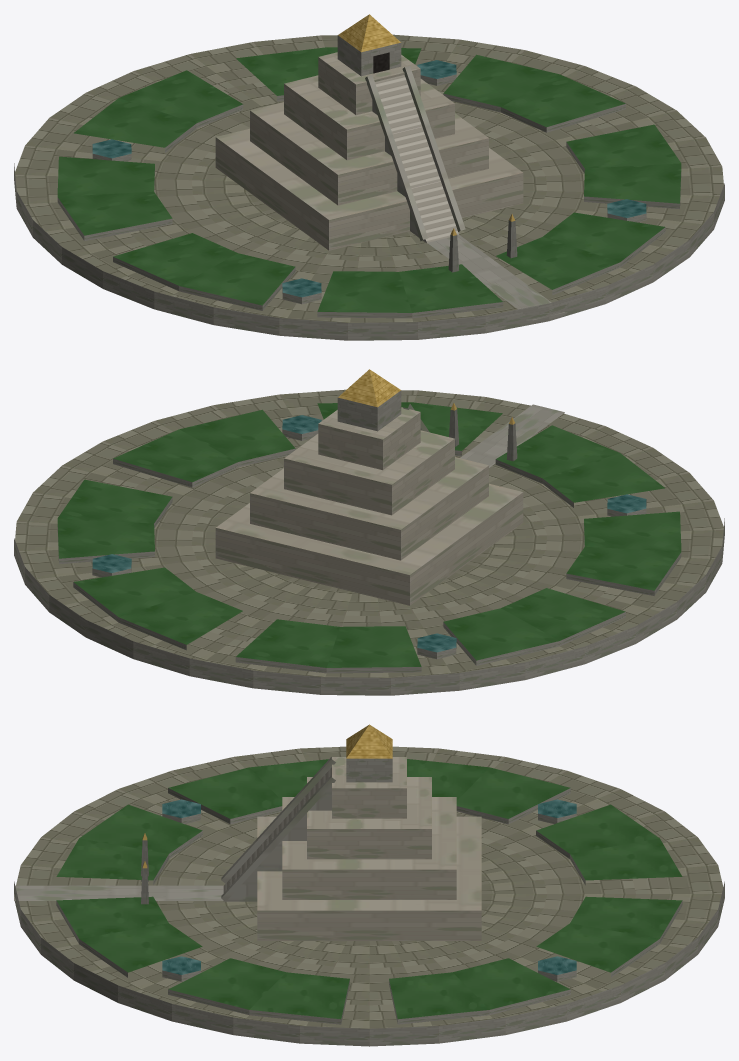
The model's file is pyramid_small_lod1.glb.
3 renders of one model, top to bottom at view 1: azimuth 30°, elevation 25°; view 2: azimuth 150°, elevation 25°; view 3: azimuth 270°, elevation 25°, orthographic.
Visible parts, largest first — view 1: pyramid_small_lod1; view 2: pyramid_small_lod1; view 3: pyramid_small_lod1.
Boxes of the visible parts, box(x1,y1,x2,y2) form: pyramid_small_lod1: box(14, 14, 724, 340); pyramid_small_lod1: box(14, 369, 724, 695); pyramid_small_lod1: box(14, 724, 724, 1046).
Size of the model in its own units: 1.88 by 0.512 by 1.9.
1 material, 1 textured.
